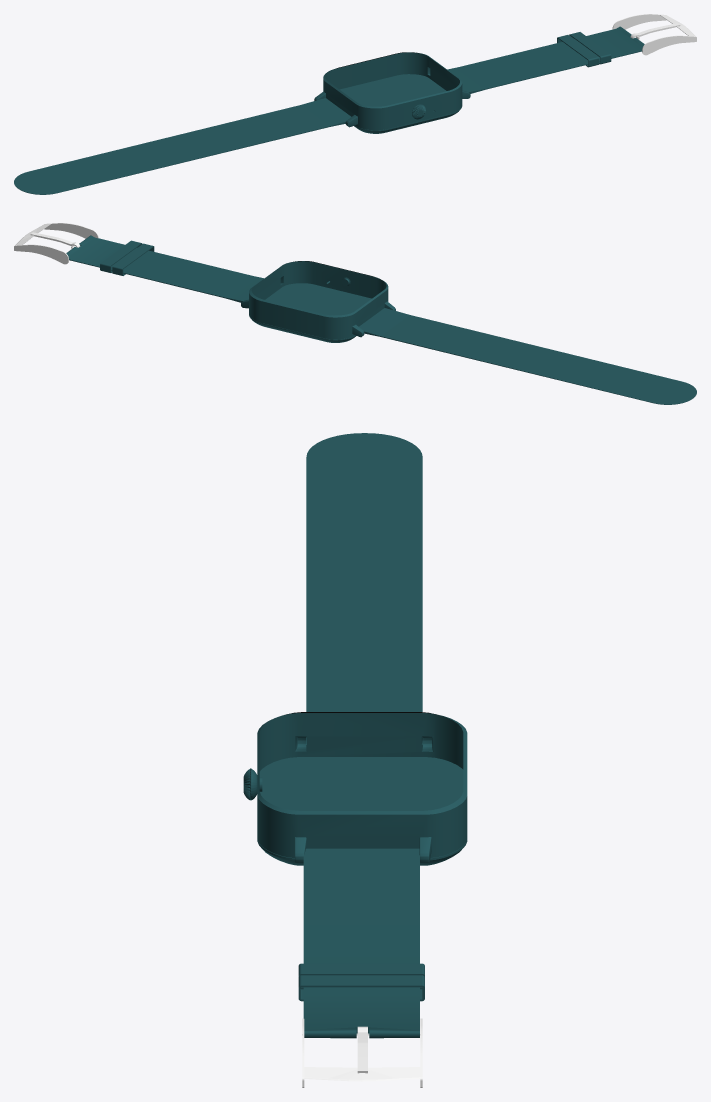
Rendered from Smart watch .fbx.
3 views of the same model, one above another, from view 1: azimuth 30°, elevation 25°; view 2: azimuth 150°, elevation 25°; view 3: azimuth 270°, elevation 25° (orthographic). The views are drawn at different scales.
Visible parts, largest first — view 1: DISPLEY, Plane, Cube; view 2: DISPLEY, Plane, Cube; view 3: DISPLEY, Cube, Plane.
Boxes of the visible parts, x1,y1,x2,y2 form: DISPLEY: (14, 26, 644, 194); Plane: (612, 14, 696, 55); Cube: (557, 32, 611, 67); DISPLEY: (66, 235, 696, 404); Plane: (14, 223, 98, 264); Cube: (100, 240, 154, 275); DISPLEY: (243, 433, 467, 1038); Cube: (298, 963, 424, 1001); Plane: (302, 1018, 422, 1087).
Size of the model in its own units: 2058 by 111 by 300.
